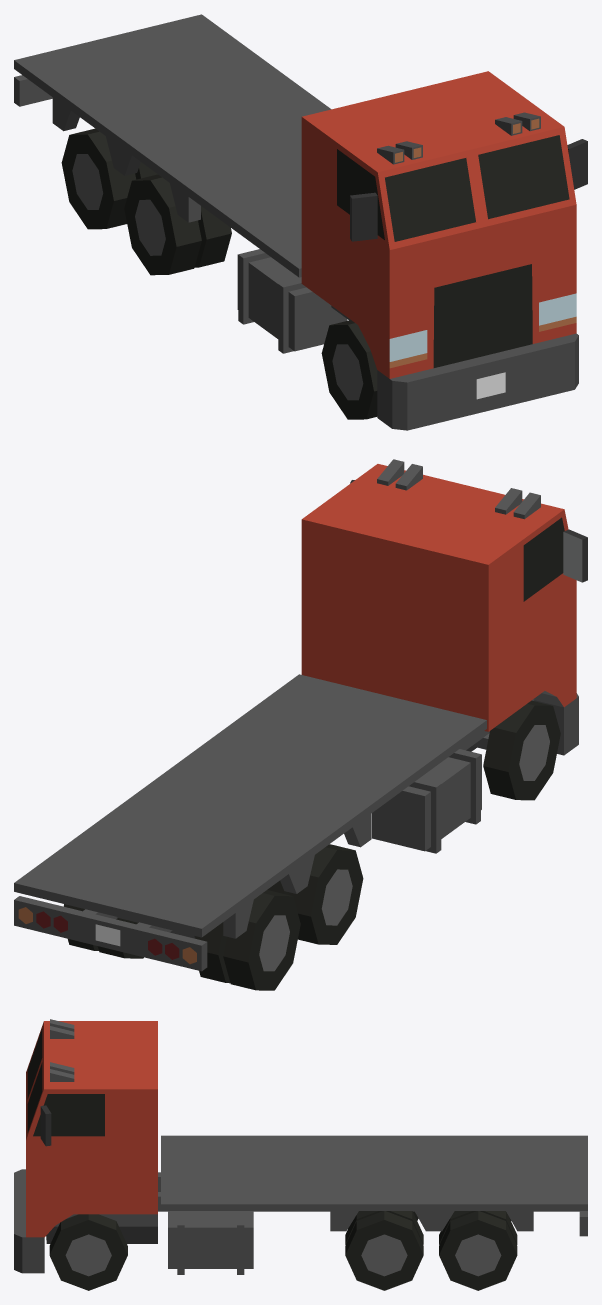
The model's file is Veh_Truck_03_Flat_Red.glb.
The picture shows the model from 3 angles, top to bottom: view 1: azimuth 30°, elevation 25°; view 2: azimuth 150°, elevation 25°; view 3: azimuth 270°, elevation 25°; orthographic projection. The views are drawn at different scales.
Parts seen in each view (by area): view 1: Truck_03_Red, Wheel_RR1, Wheel_RR2, Wheel_FR; view 2: Truck_03_Red, Wheel_RR2, Wheel_FR, Wheel_RR1; view 3: Truck_03_Red, Wheel_RL1, Wheel_RL2, Wheel_FL.
Boxes of the visible parts, left/top/right/bottom form: Truck_03_Red: left=14, top=14, right=587, bottom=430; Wheel_RR1: left=124, top=174, right=231, bottom=275; Wheel_RR2: left=61, top=128, right=157, bottom=229; Wheel_FR: left=321, top=320, right=377, bottom=419; Truck_03_Red: left=14, top=459, right=587, bottom=971; Wheel_RR2: left=195, top=890, right=300, bottom=990; Wheel_FR: left=483, top=700, right=560, bottom=800; Wheel_RR1: left=267, top=844, right=363, bottom=944; Truck_03_Red: left=14, top=1019, right=587, bottom=1274; Wheel_RL1: left=345, top=1211, right=423, bottom=1290; Wheel_RL2: left=439, top=1211, right=517, bottom=1290; Wheel_FL: left=49, top=1214, right=127, bottom=1290.
Bounding box in the file's own units: 1.68 × 1.92 × 4.74.
1 material, 1 textured.
